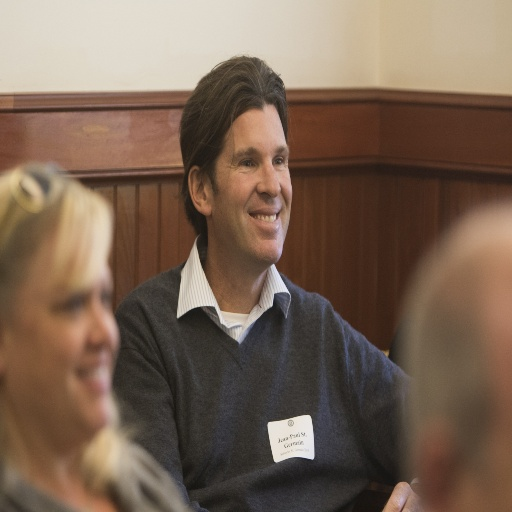hand: (383, 482, 423, 511)
